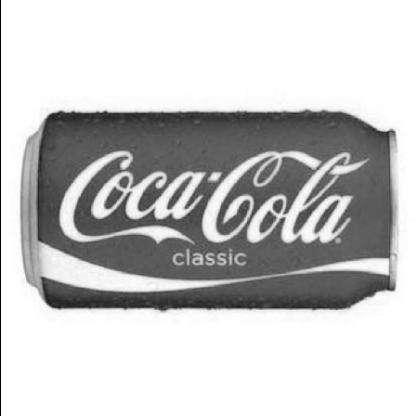alumunium_can: (18, 110, 399, 311)
